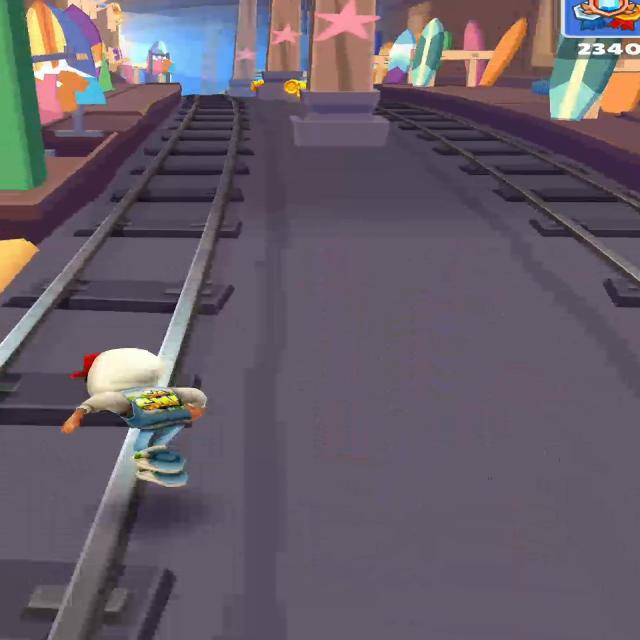block pillar: (291, 0, 389, 147), (257, 0, 301, 101), (227, 0, 257, 97)
